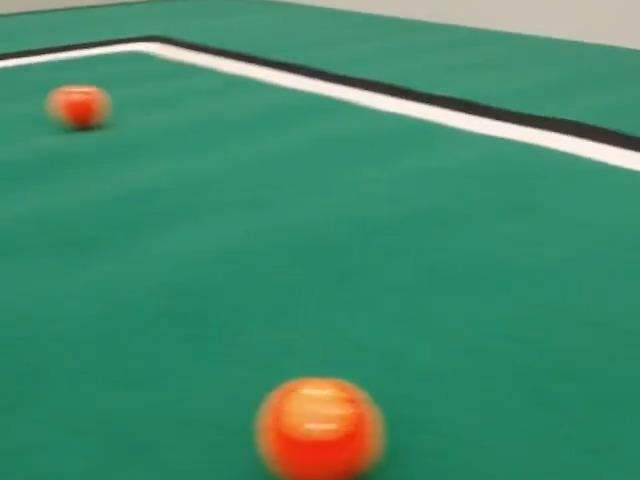Ball: (255, 378, 384, 479), (46, 85, 111, 129)
